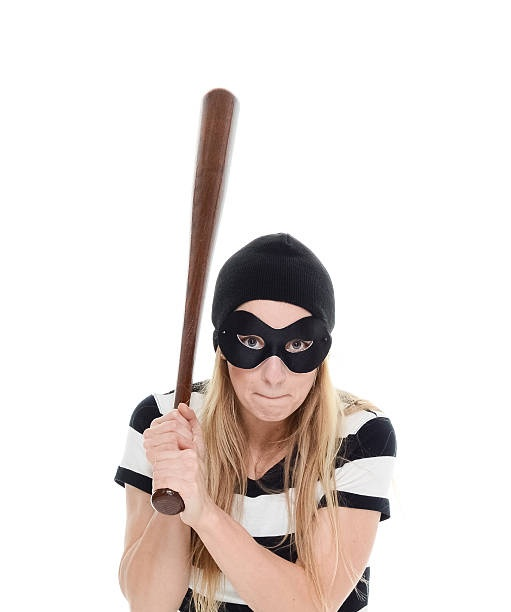bita: (146, 90, 246, 506)
